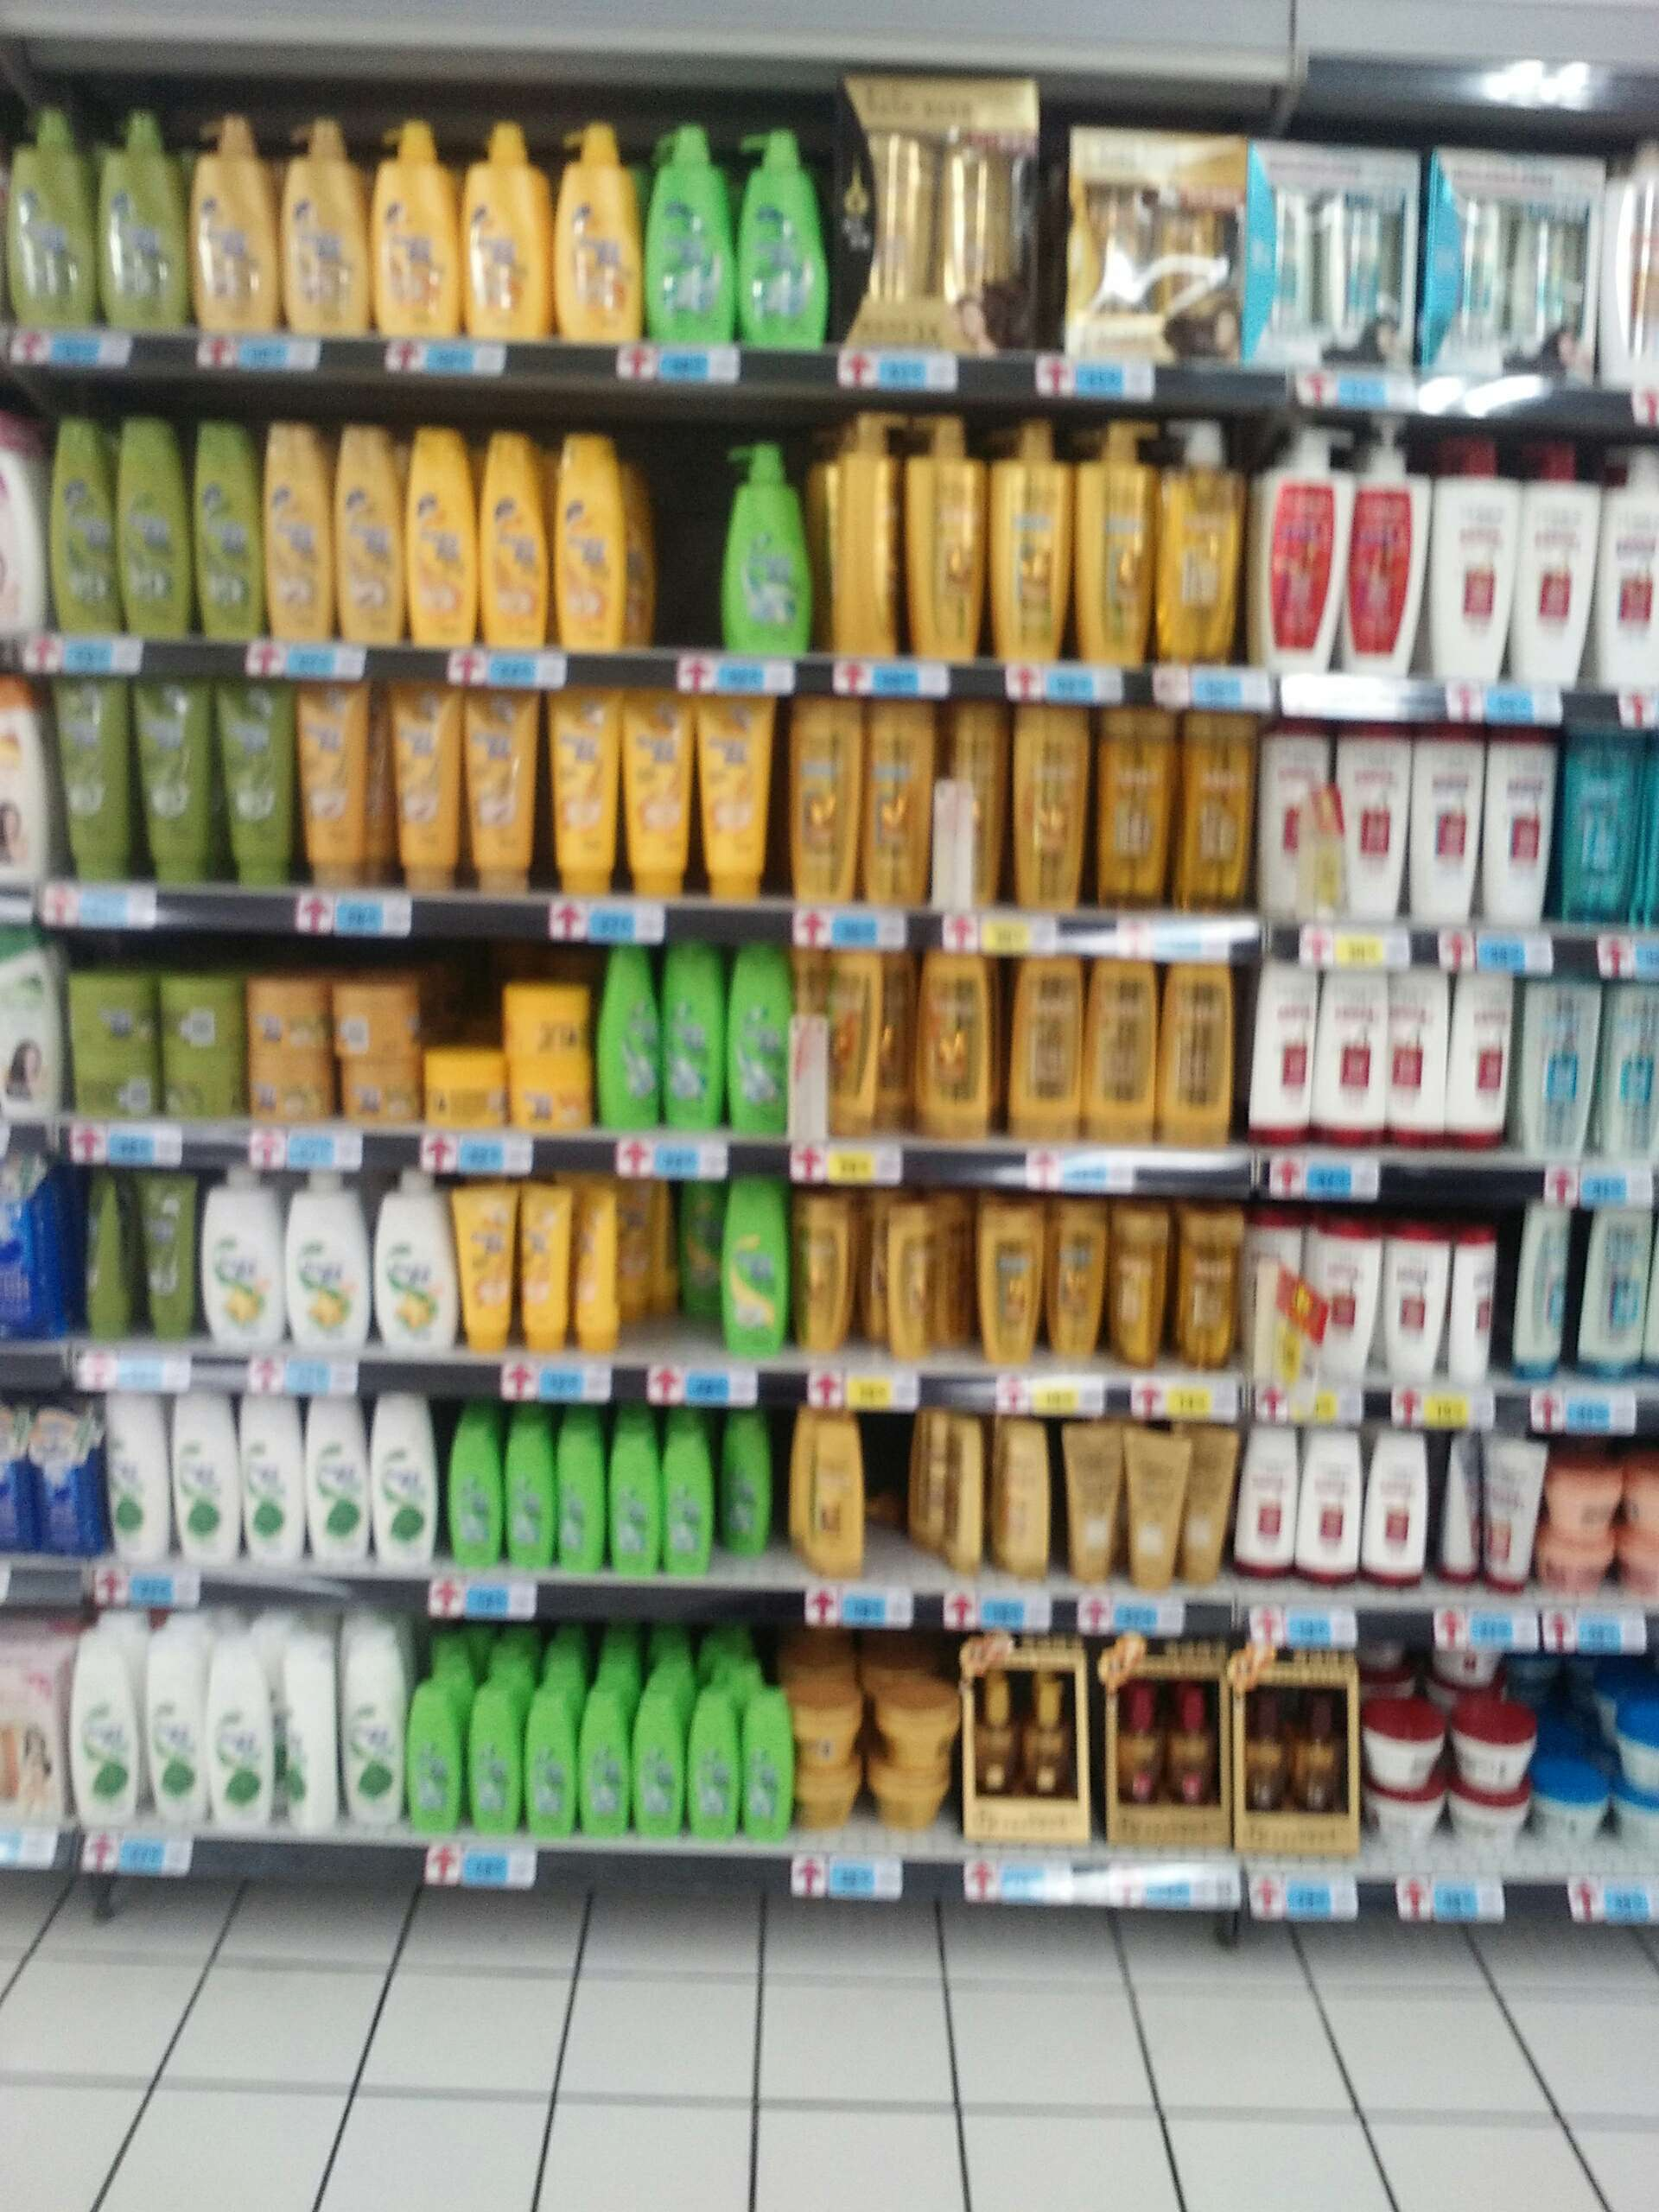product: (850, 82, 1040, 350), (1053, 134, 1243, 352), (1417, 150, 1596, 373), (1249, 132, 1415, 373), (958, 1634, 1105, 1838), (1234, 1648, 1368, 1853), (1152, 395, 1249, 671), (1248, 406, 1344, 671), (1103, 1646, 1234, 1836), (714, 406, 817, 644), (1425, 435, 1525, 679), (988, 397, 1072, 665), (94, 103, 188, 334), (1072, 395, 1150, 667), (279, 106, 369, 338), (817, 404, 901, 650), (904, 401, 985, 650), (5, 89, 89, 327), (369, 111, 457, 340), (186, 110, 274, 333), (1349, 404, 1419, 679), (465, 113, 547, 345), (552, 117, 634, 348), (735, 134, 823, 347), (913, 934, 1006, 1134), (45, 676, 136, 878), (1089, 705, 1182, 899), (688, 697, 779, 894), (333, 416, 411, 639), (545, 685, 629, 892), (1588, 453, 1659, 693), (852, 702, 936, 906), (824, 934, 911, 1129), (207, 1157, 296, 1346), (648, 118, 720, 354), (554, 441, 634, 648), (1554, 735, 1643, 921), (66, 1613, 139, 1838), (214, 681, 296, 880), (410, 423, 483, 639), (465, 688, 545, 885), (1009, 695, 1086, 899), (1084, 942, 1159, 1148), (1006, 942, 1086, 1134), (298, 667, 369, 880), (1525, 435, 1582, 697), (375, 1167, 457, 1350), (390, 679, 464, 883), (207, 1630, 281, 1834), (486, 423, 552, 646), (139, 679, 213, 880), (295, 1165, 375, 1348), (1183, 705, 1255, 909), (193, 418, 261, 632), (1452, 946, 1523, 1148), (1256, 735, 1337, 914), (1410, 735, 1486, 921), (44, 411, 106, 636), (263, 416, 329, 629), (117, 413, 181, 631), (781, 695, 849, 900), (1159, 958, 1232, 1148), (1523, 986, 1607, 1151), (1171, 1202, 1255, 1367), (143, 1611, 204, 1834), (1338, 737, 1410, 923), (371, 1395, 446, 1571), (1579, 1198, 1654, 1371), (657, 939, 725, 1129), (1297, 1223, 1380, 1376), (627, 685, 688, 894), (1486, 737, 1554, 923), (791, 1191, 868, 1355), (723, 1172, 791, 1355), (978, 1179, 1046, 1362), (64, 1170, 139, 1336), (1316, 968, 1387, 1141), (301, 1392, 371, 1568), (988, 1413, 1066, 1568), (338, 1620, 396, 1831), (171, 1392, 244, 1557), (1253, 951, 1316, 1139), (728, 942, 791, 1129), (458, 1174, 525, 1350), (1387, 968, 1452, 1148), (1236, 1416, 1305, 1581), (1358, 1432, 1431, 1587), (1509, 1193, 1567, 1390), (598, 939, 657, 1127), (1108, 1190, 1171, 1367), (948, 697, 1000, 907), (281, 1630, 335, 1831), (1044, 1190, 1105, 1362), (1382, 1224, 1450, 1378), (805, 1414, 870, 1575), (1131, 1421, 1190, 1595), (554, 1402, 612, 1580), (455, 1399, 511, 1580), (1065, 1413, 1121, 1590), (577, 1674, 634, 1841), (469, 1684, 532, 1834), (31, 1414, 99, 1550), (115, 1392, 171, 1557), (406, 1674, 469, 1818), (1307, 1416, 1359, 1588), (143, 1162, 193, 1338), (664, 1397, 718, 1559), (685, 1681, 741, 1838), (608, 1400, 655, 1581), (884, 1198, 936, 1360), (716, 1406, 770, 1561), (1443, 1702, 1547, 1780), (619, 1174, 676, 1315), (634, 1679, 683, 1843), (572, 1174, 619, 1338), (244, 1392, 289, 1559), (936, 1181, 978, 1360), (525, 1174, 572, 1331), (934, 1421, 983, 1568), (1483, 1444, 1534, 1585), (335, 982, 422, 1062), (532, 1669, 573, 1834), (742, 1689, 789, 1836), (1452, 1235, 1499, 1381), (512, 1402, 551, 1580), (1256, 1205, 1295, 1376), (1194, 1421, 1234, 1583), (1539, 1460, 1621, 1538), (796, 1686, 875, 1766), (249, 974, 328, 1050), (68, 975, 150, 1049), (423, 1052, 507, 1123), (511, 982, 586, 1061), (68, 1052, 153, 1120), (680, 1183, 721, 1320), (162, 982, 246, 1050), (509, 1062, 594, 1129), (877, 1689, 948, 1768), (796, 1766, 875, 1838), (1373, 1703, 1443, 1782), (162, 1050, 239, 1118), (247, 1052, 326, 1118), (1445, 1430, 1478, 1585), (1370, 1797, 1462, 1851), (1535, 1787, 1608, 1855), (336, 1062, 411, 1127), (877, 1777, 951, 1836), (1462, 1799, 1532, 1855), (1539, 1540, 1603, 1594)
